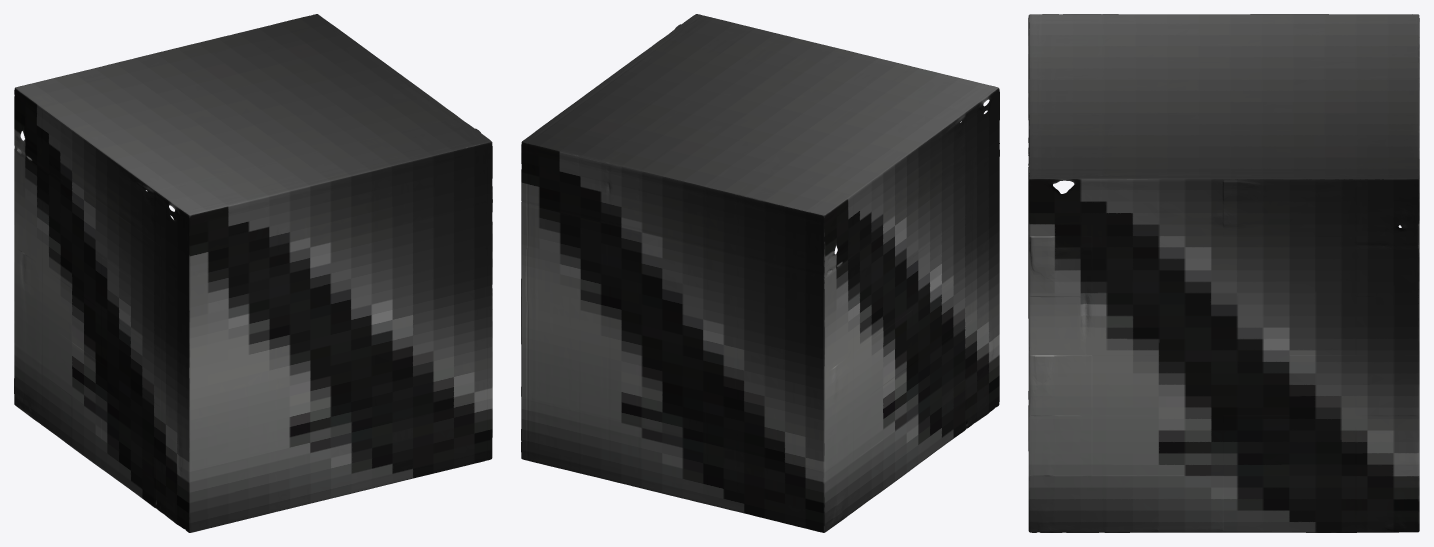
File: spotlight.glb
3 renders of one model, left to right at view 1: azimuth 30°, elevation 25°; view 2: azimuth 150°, elevation 25°; view 3: azimuth 270°, elevation 25°, orthographic. The views are drawn at different scales.
Visible parts, largest first — view 1: spotlight; view 2: spotlight; view 3: spotlight.
Part boxes in pixels (x1,y1,x2,y2): spotlight: (14,14,492,532); spotlight: (521,14,999,532); spotlight: (1028,14,1419,532).
Size of the model in its own units: 0.5 by 0.495 by 0.4949.
Materials: 1 (1 with a texture image).
